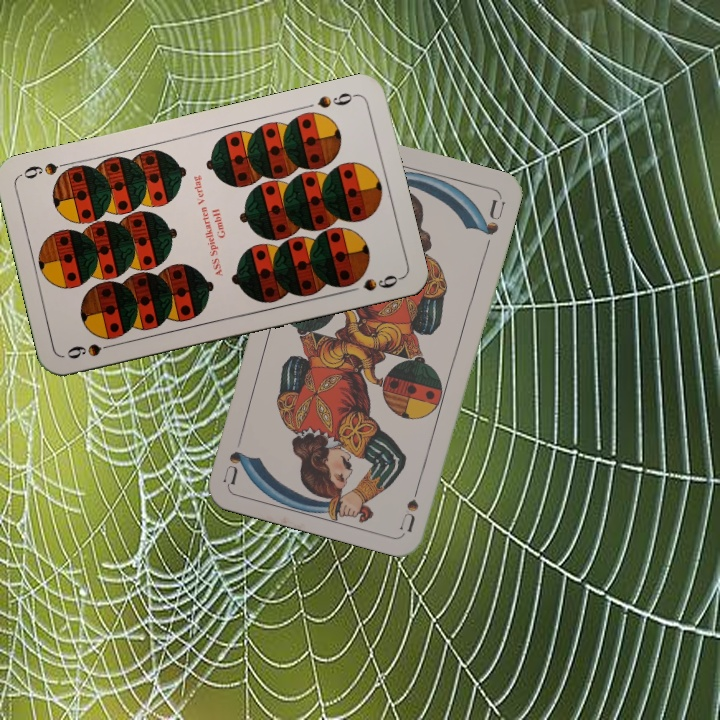S9: (63, 338, 121, 362), (314, 88, 360, 111)
SU: (395, 474, 424, 534)
